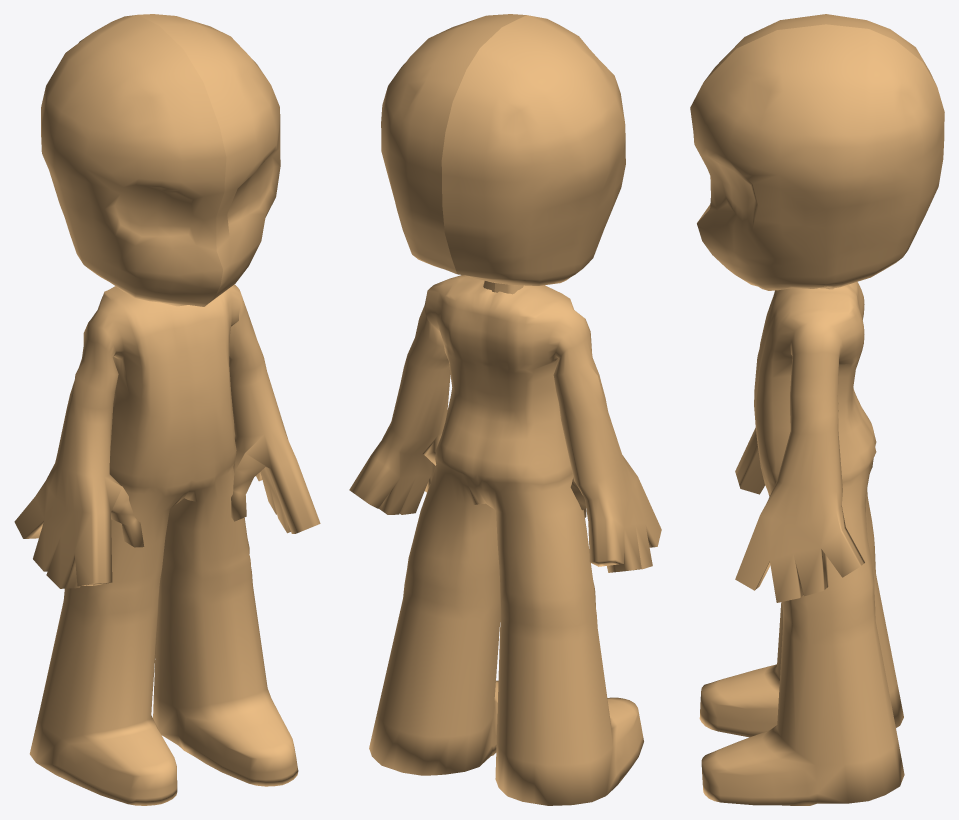
File: Player.fbx
3 views of the same model, side by side, from view 1: azimuth 30°, elevation 25°; view 2: azimuth 150°, elevation 25°; view 3: azimuth 270°, elevation 25° (orthographic). The views are drawn at different scales.
Visible parts, largest first — view 1: body; view 2: body; view 3: body.
Part boxes in pixels (x1=…): body: x1=14, y1=14, x2=320, y2=805; body: x1=349, y1=14, x2=661, y2=805; body: x1=690, y1=14, x2=944, y2=805.
Bounding box in the file's own units: 92.22 × 247 × 77.35.
